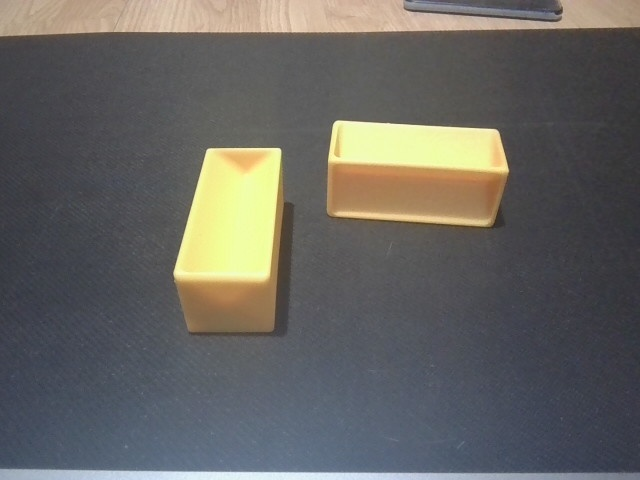YellowSample: (167, 141, 295, 340), (321, 115, 513, 235)
